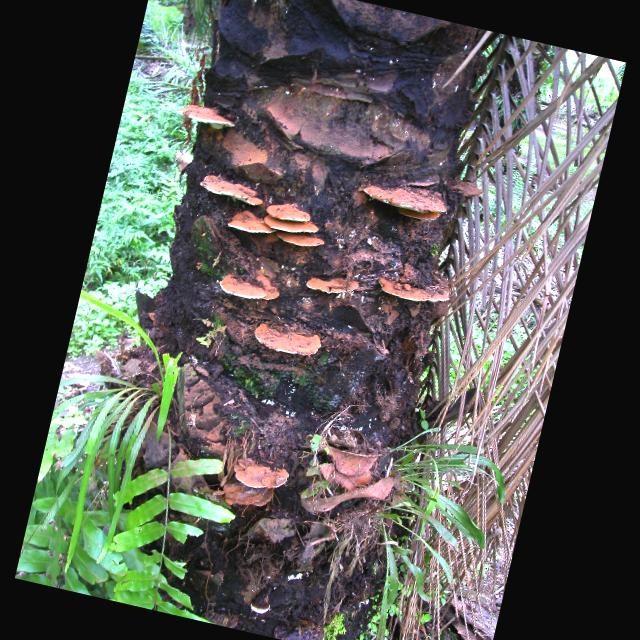ganoderma: (362, 173, 452, 220), (250, 310, 326, 362), (217, 260, 284, 306), (376, 271, 454, 310), (263, 197, 324, 239), (230, 456, 291, 496), (198, 174, 266, 208), (174, 101, 238, 134), (220, 478, 276, 515), (306, 269, 362, 302), (227, 208, 280, 240), (278, 227, 326, 252), (441, 178, 487, 203), (396, 203, 441, 224)
